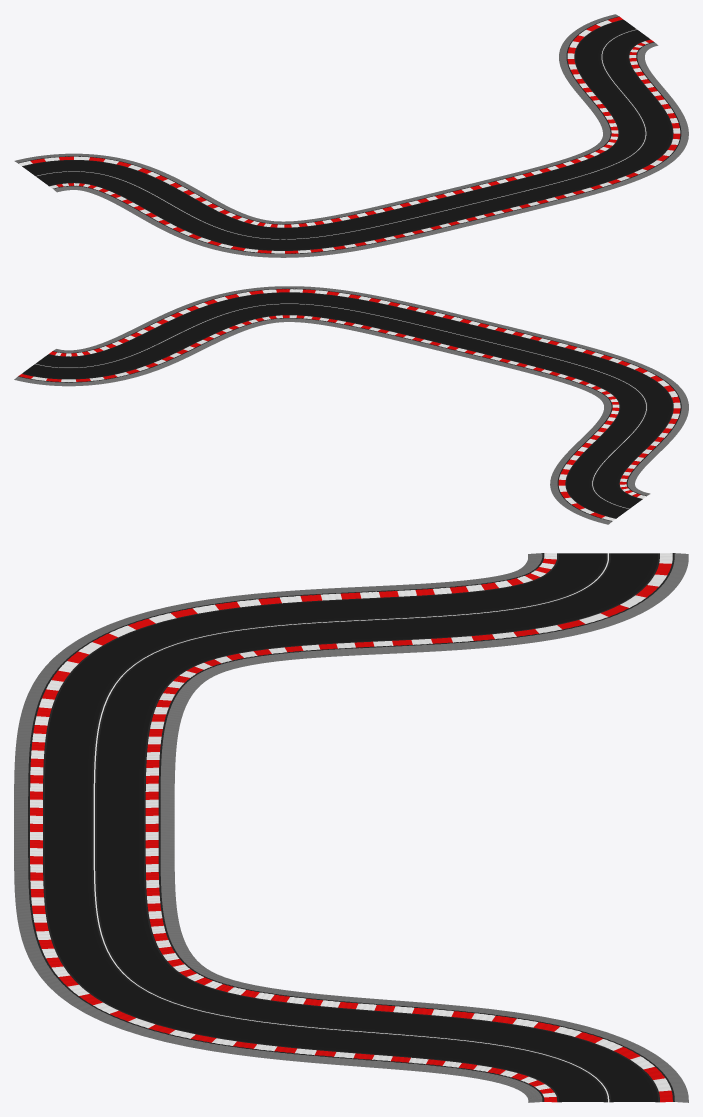
File: S0.Group.202.export.A1M1H0cornRhard.glb
The picture shows the model from 3 angles, top to bottom: view 1: azimuth 30°, elevation 25°; view 2: azimuth 150°, elevation 25°; view 3: azimuth 270°, elevation 25°; orthographic projection. The views are drawn at different scales.
Parts seen in each view (by area): view 1: Grid; view 2: Grid; view 3: Grid.
Boxes of the visible parts, x1,y1,x2,y2 form: Grid: (14,14,688,257); Grid: (14,286,688,524); Grid: (14,553,688,1102).
Size of the model in its own units: 202 by 0.21 by 105.
